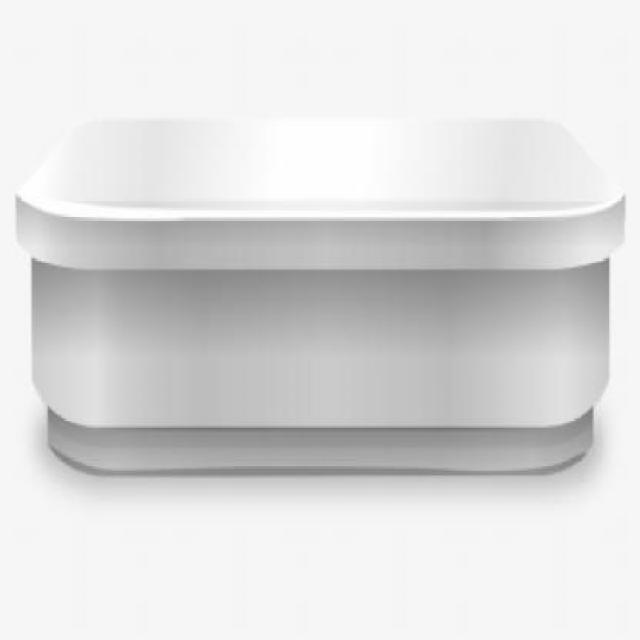table: (10, 110, 628, 482)
